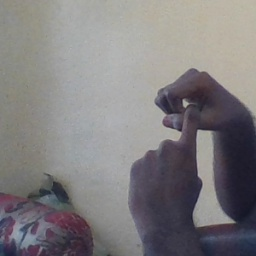Q: (123, 66, 228, 200)
